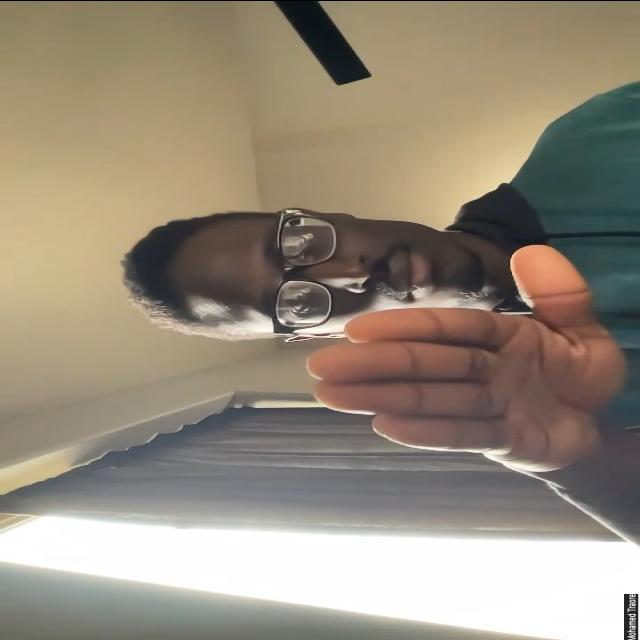Paper: (304, 244, 626, 472)
